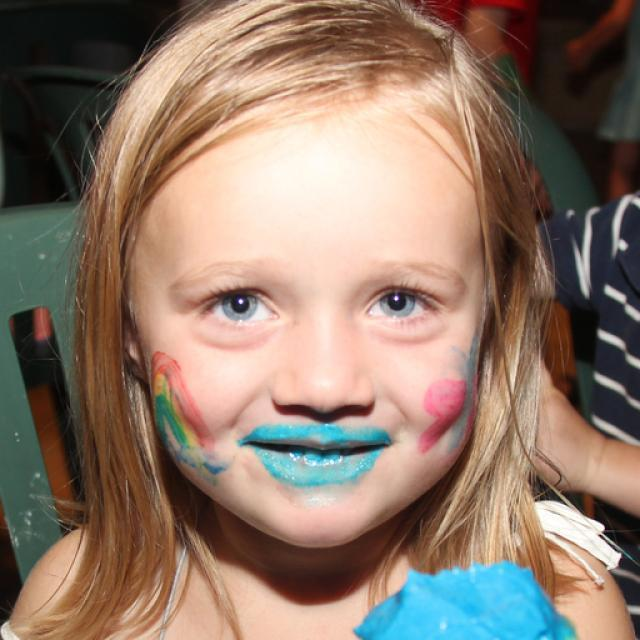0_rostro_limpio: (119, 0, 490, 552)
